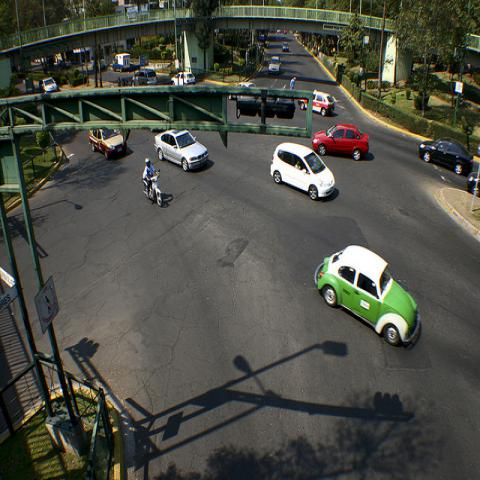car: (312, 244, 422, 352), (268, 142, 336, 200), (154, 128, 210, 172), (419, 138, 475, 177), (312, 124, 369, 160), (89, 128, 125, 160), (298, 90, 336, 116), (131, 70, 158, 86), (466, 169, 480, 196), (171, 71, 196, 86), (41, 77, 59, 92), (282, 42, 289, 51)
motorcycle: (143, 172, 162, 206)
truck: (112, 54, 130, 72), (268, 56, 281, 75)
